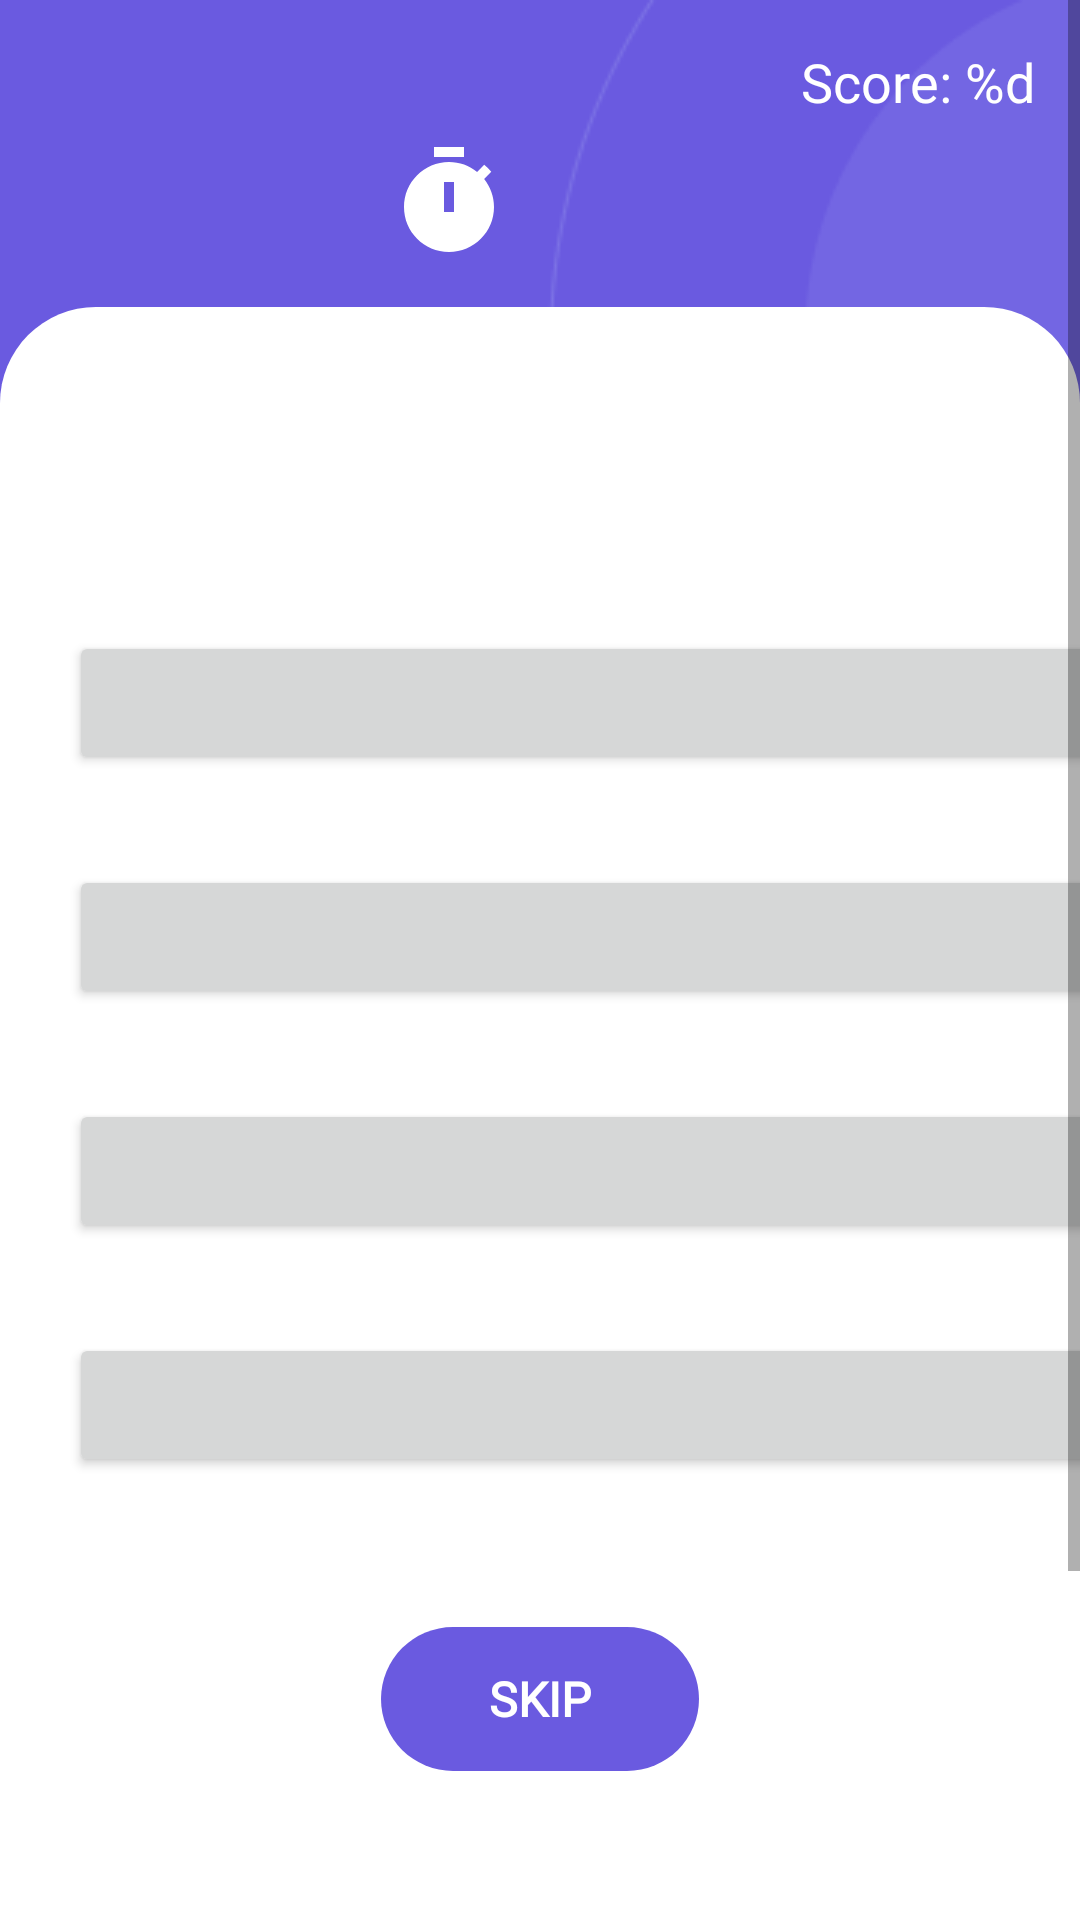

Icon click points for this 1080w x 1920h phone screenshot, format (x,y):
Timer: (449,199)
